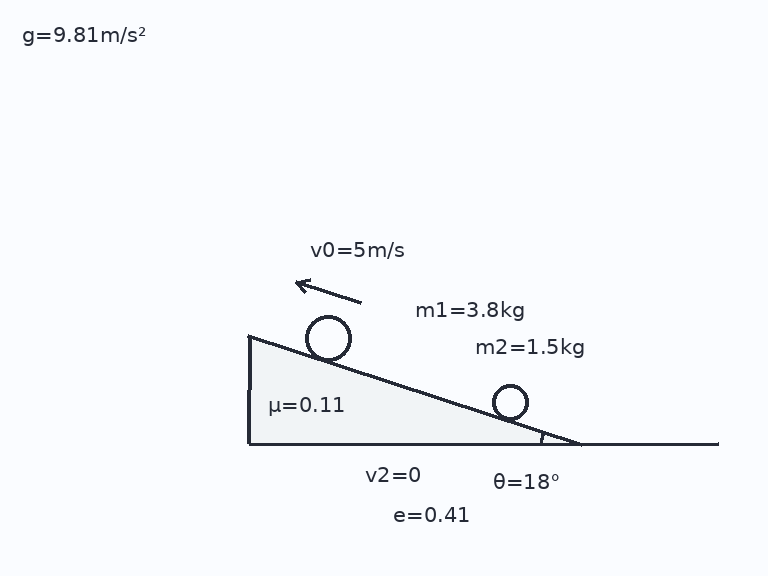ball: (303, 313, 353, 363), (490, 382, 530, 422)
ramp: (246, 334, 583, 446)
